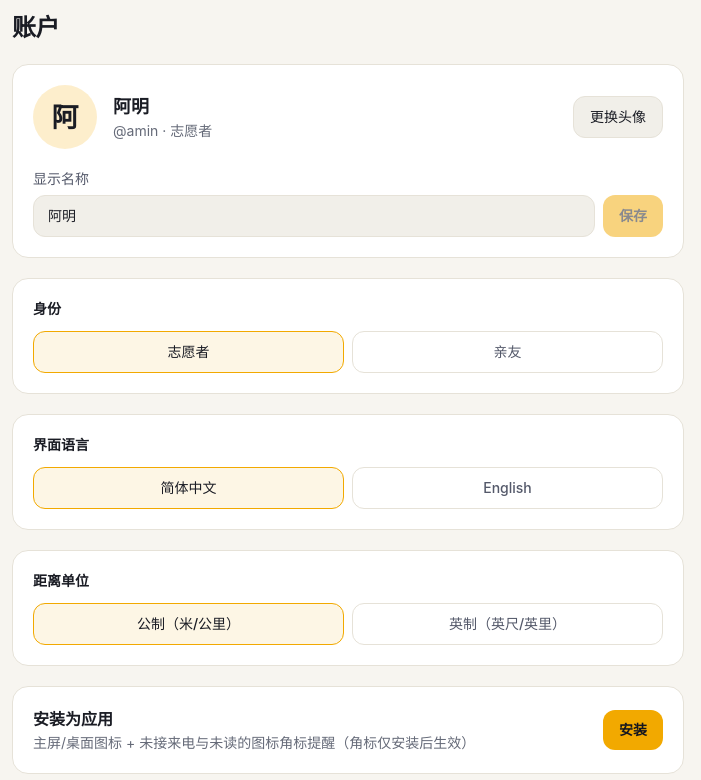
Test: AccountPage 资料渲染（防字段漂移） › 安装为应用卡：无 beforeinstallprompt（Safari/Firefox/已安装）不渲染；捕获到→出卡，点安装调 promptInstall
Expected: the field showing "阿明" is shown, 33,195 -> 595,237
Expected: the element with test id "install-app-card" is shown, 33,707 -> 475,753
Click the button "安装": (633, 730) 603,710 -> 663,750
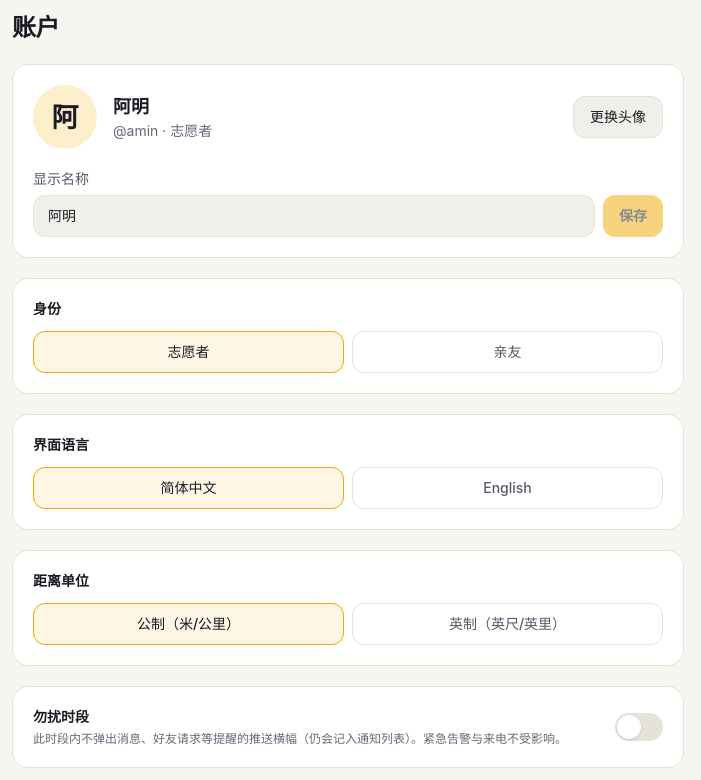
Expected: the element with test id "install-app-card" is gone
